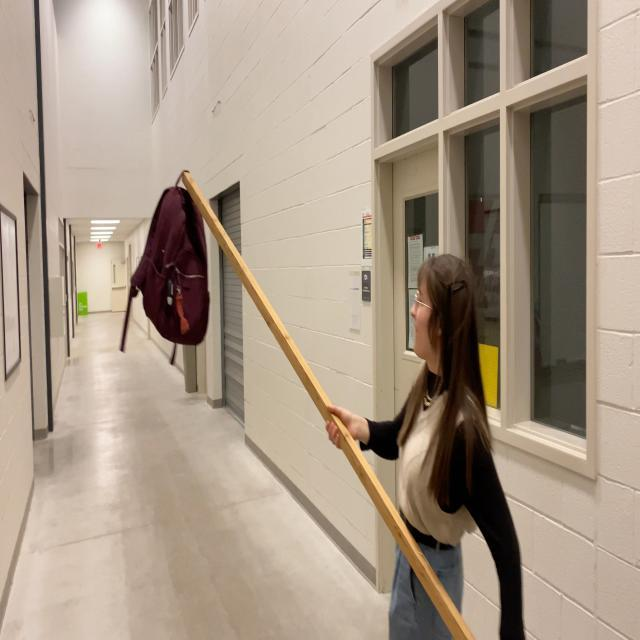Backpacks: (136, 186, 212, 347)
